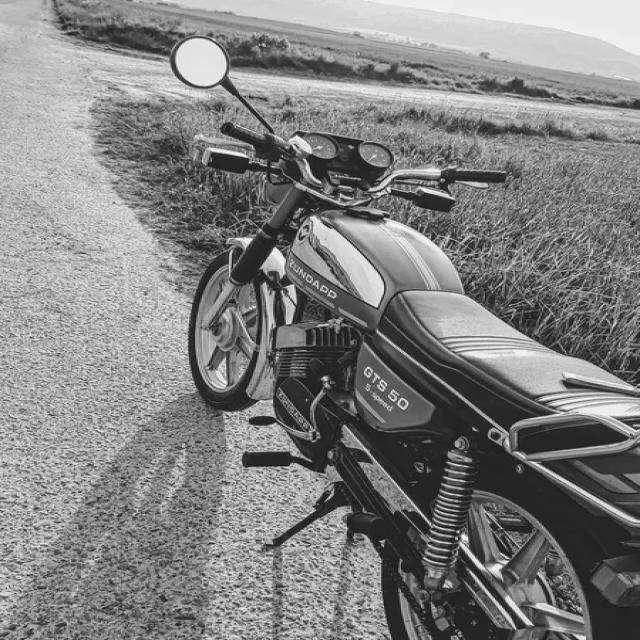Motorcycle: (170, 36, 640, 640)
